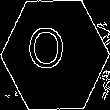O_S: (36, 29, 74, 81)
